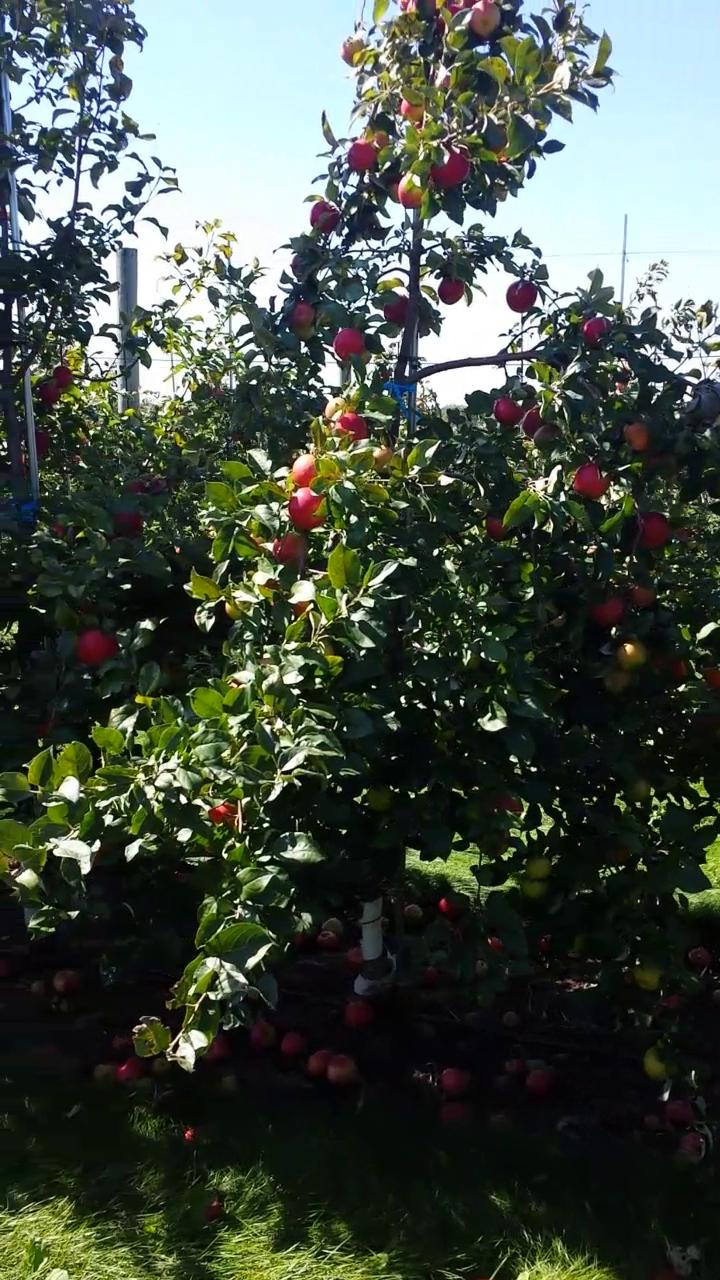Apple: (428, 141, 471, 188), (289, 487, 327, 532), (75, 628, 118, 667), (570, 461, 613, 499), (634, 509, 671, 549), (327, 409, 368, 443), (330, 326, 367, 363), (269, 529, 306, 564), (107, 510, 143, 544), (588, 592, 625, 625), (468, 0, 501, 36), (346, 137, 380, 171), (492, 393, 526, 426), (288, 453, 320, 488), (505, 278, 538, 311), (615, 639, 648, 671), (399, 172, 427, 209), (309, 201, 341, 233), (641, 1045, 670, 1080), (436, 274, 466, 306), (582, 316, 611, 349), (519, 405, 545, 440), (652, 654, 687, 679), (435, 3, 465, 32), (630, 965, 666, 989), (382, 295, 407, 329), (339, 36, 367, 66), (645, 452, 676, 478), (522, 854, 554, 879), (621, 420, 647, 450), (207, 800, 238, 825), (491, 793, 524, 815), (485, 515, 512, 540), (604, 667, 631, 692), (364, 787, 391, 812), (287, 299, 315, 322), (321, 395, 347, 419), (399, 97, 426, 120), (488, 137, 510, 165), (40, 378, 65, 402), (520, 877, 550, 897), (371, 443, 393, 469), (247, 532, 277, 551), (629, 584, 654, 606), (536, 421, 563, 440), (385, 173, 401, 203), (52, 362, 72, 386), (288, 321, 316, 338), (34, 717, 59, 736), (632, 776, 651, 801), (34, 428, 49, 457), (371, 129, 390, 151), (449, 0, 484, 10), (50, 520, 67, 540), (289, 253, 304, 275), (701, 667, 719, 685), (288, 600, 309, 615), (122, 481, 149, 492), (224, 601, 239, 619), (433, 75, 452, 89), (228, 679, 249, 690), (406, 0, 420, 15), (394, 0, 409, 11)
